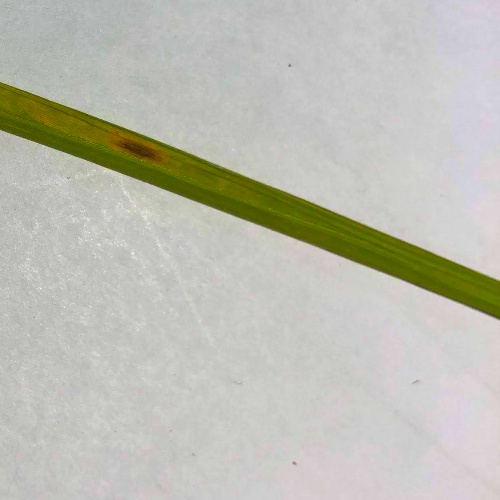Bercak Coklat: (115, 132, 168, 173)
